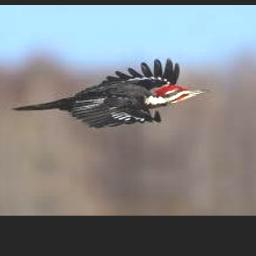Woodpecker: (13, 58, 211, 128)
